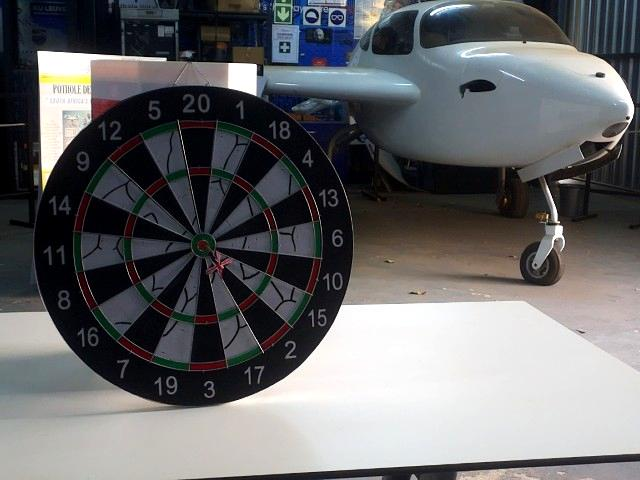bullseye: (198, 241, 208, 251)
